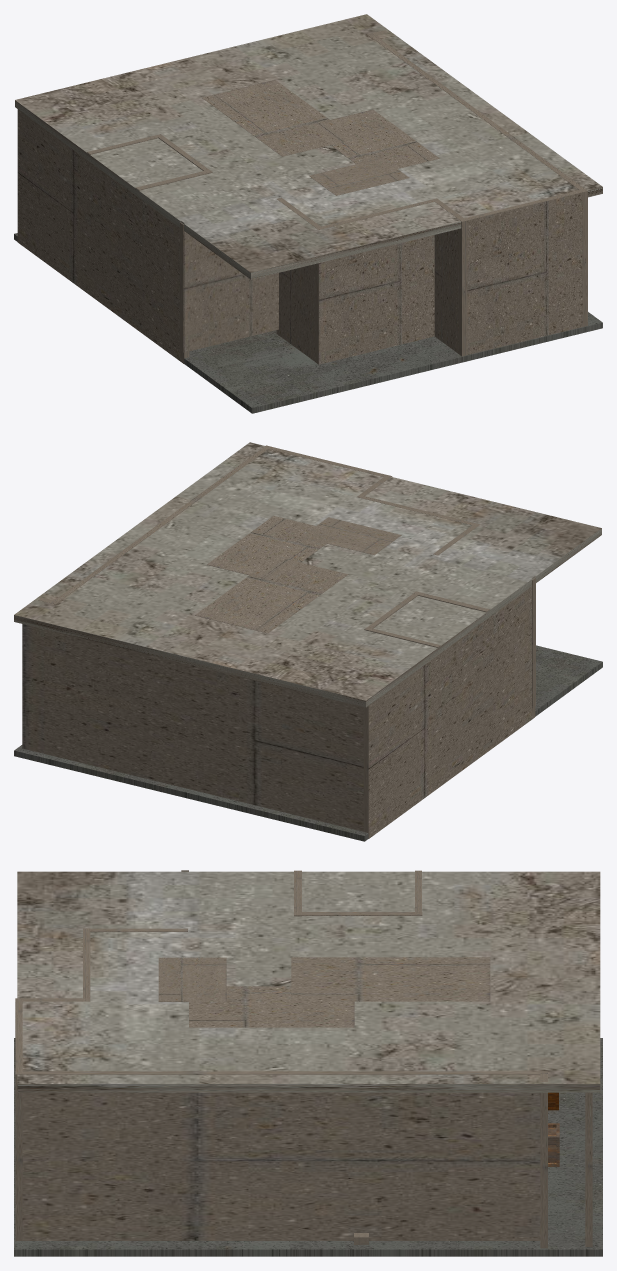
Rendered from area3.glb.
3 views of the same model, one above another, from view 1: azimuth 30°, elevation 25°; view 2: azimuth 150°, elevation 25°; view 3: azimuth 270°, elevation 25° (orthographic). The views are drawn at different scales.
Visible parts, largest first — view 1: ceiling; view 2: ceiling; view 3: ceiling.
Part boxes in pixels (x1=…): ceiling: x1=14, y1=14, x2=602, y2=413; ceiling: x1=14, y1=442, x2=602, y2=841; ceiling: x1=14, y1=870, x2=602, y2=1256.
Size of the model in its own units: 151 by 57.68 by 176.
Materials: 15 (15 with a texture image).
